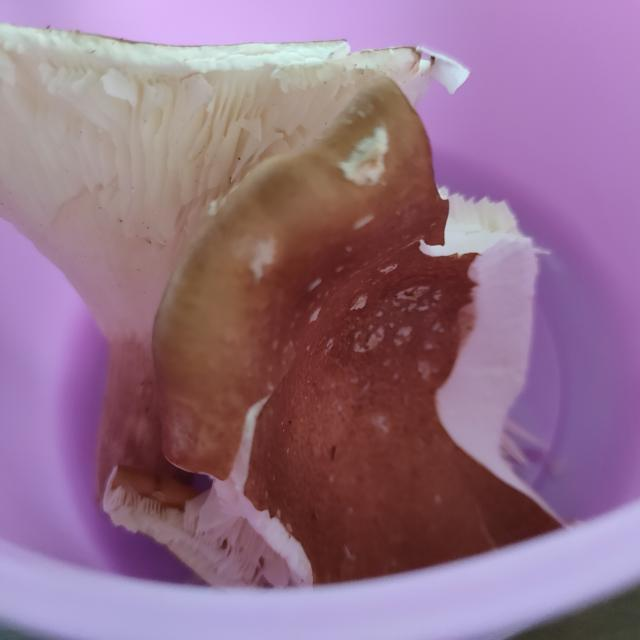Clitocybe maxima: (0, 22, 557, 541)
